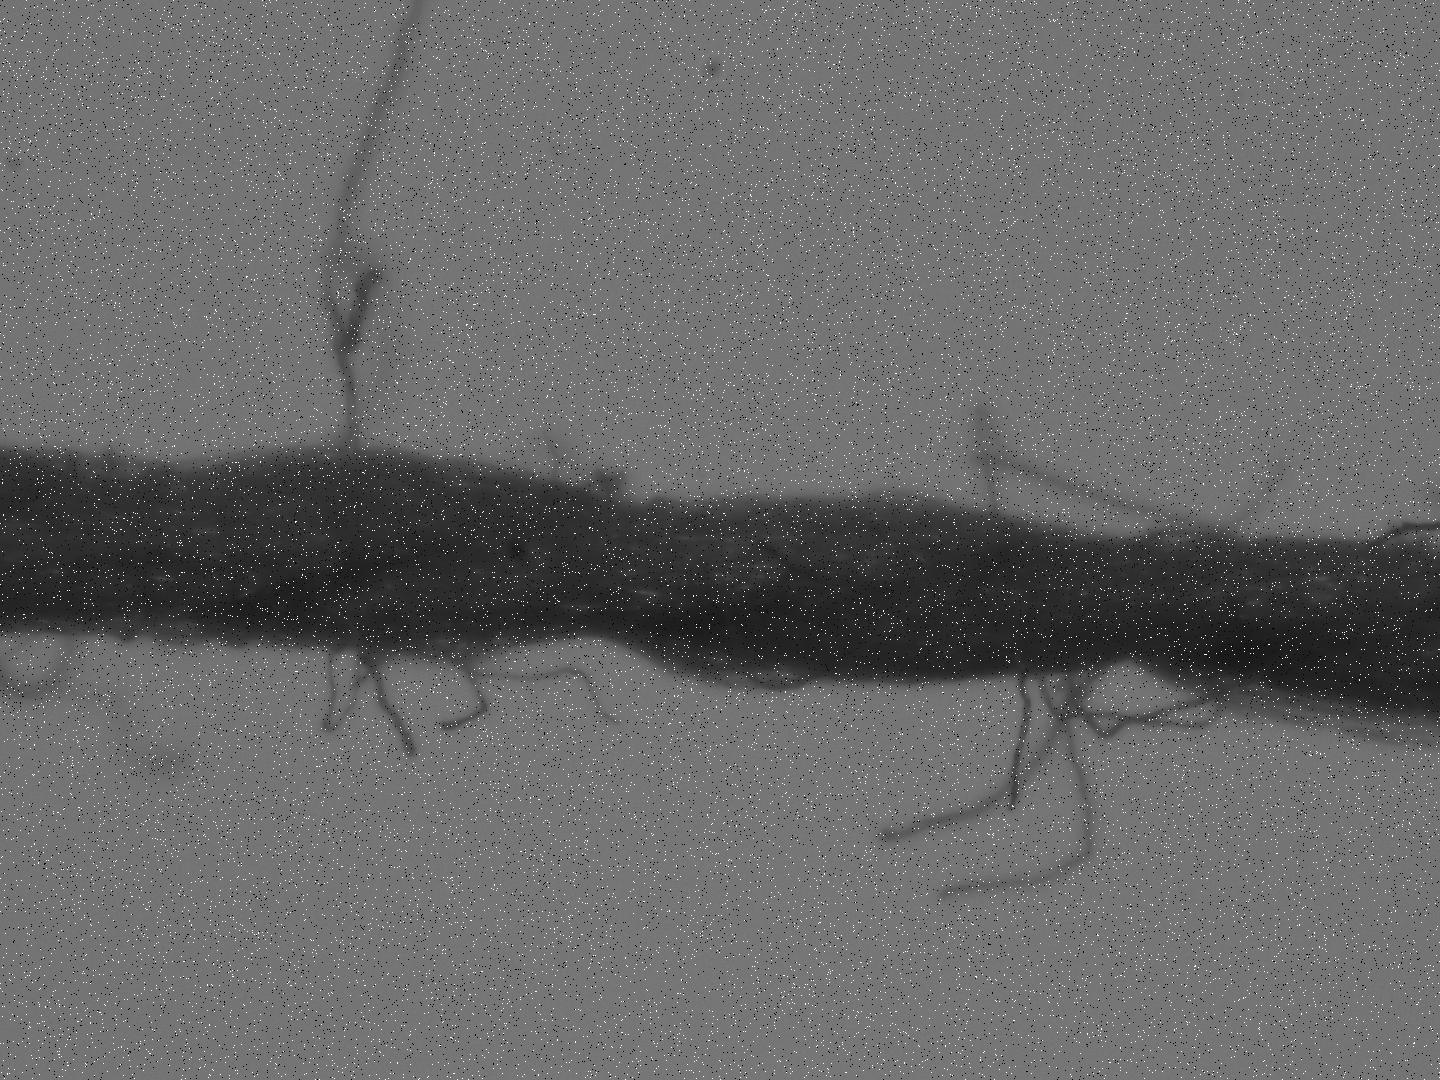loop_fiber: (966, 400, 1265, 549), (1027, 656, 1240, 745), (1, 630, 79, 704), (320, 642, 366, 734)
protruding_fiber: (319, 2, 422, 461), (880, 659, 1125, 845), (935, 668, 1100, 905), (442, 635, 627, 728), (363, 651, 422, 767), (1006, 669, 1039, 821), (435, 652, 493, 739)
